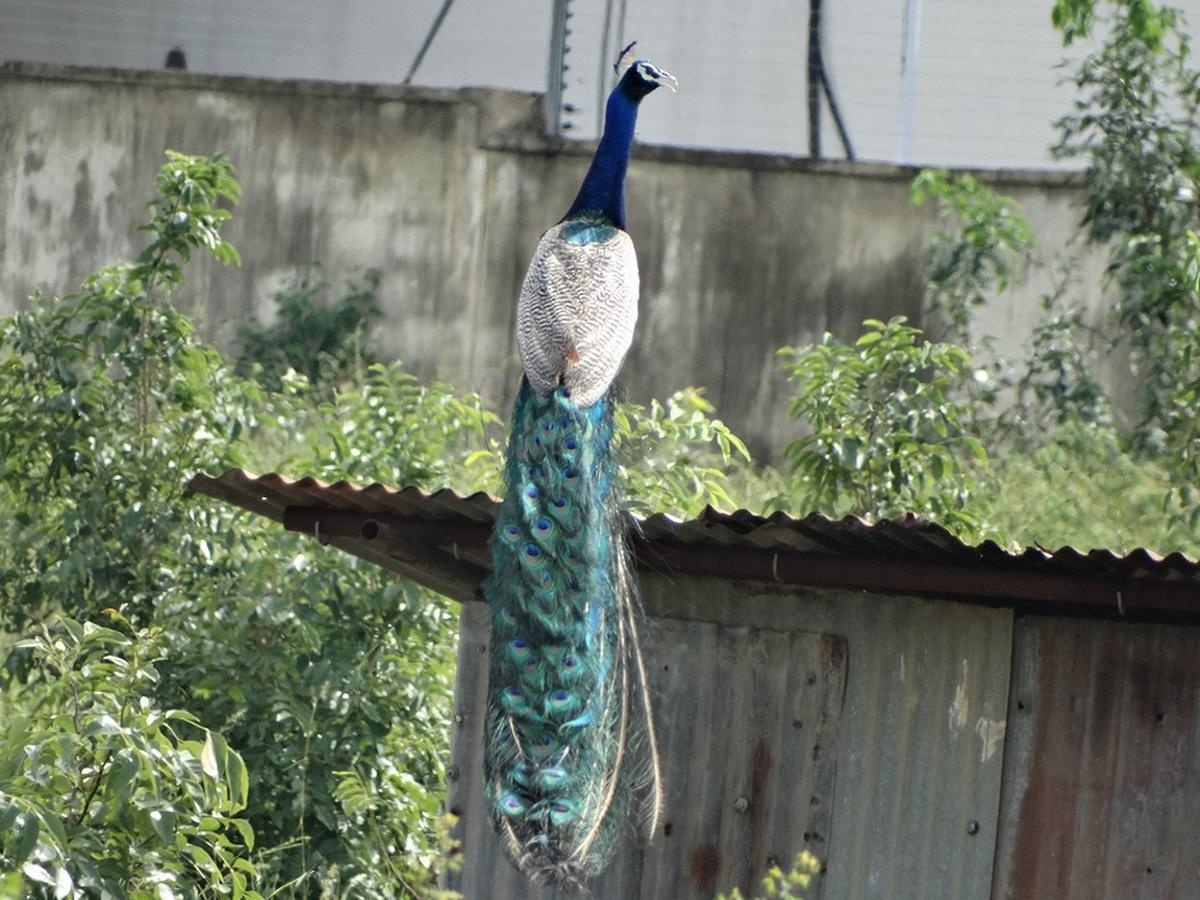peacock: (498, 48, 677, 832)
